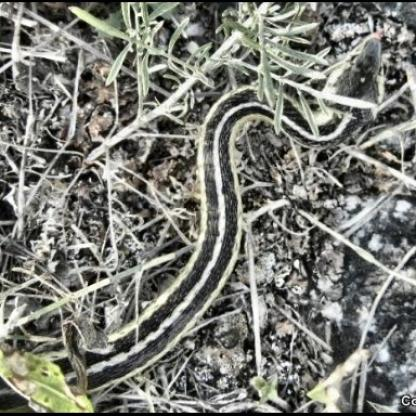Snake: (76, 31, 382, 392)
